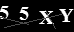5: (18, 6, 29, 21), (1, 5, 9, 20)
X: (37, 10, 55, 25)
Y: (58, 8, 74, 23)
